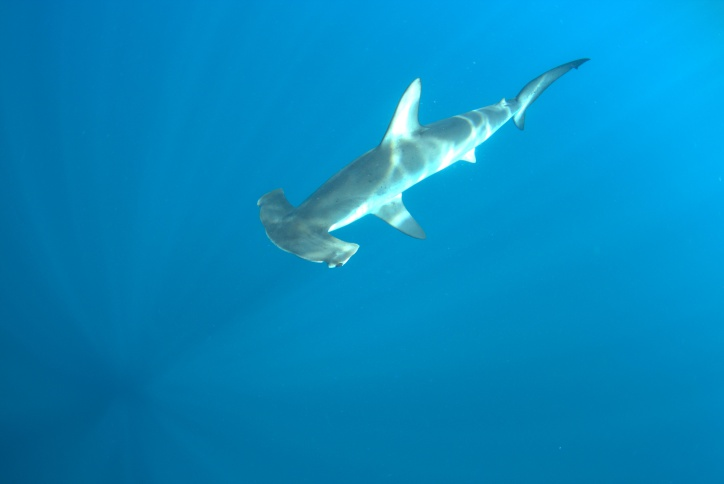Hammer: (235, 46, 597, 286)
